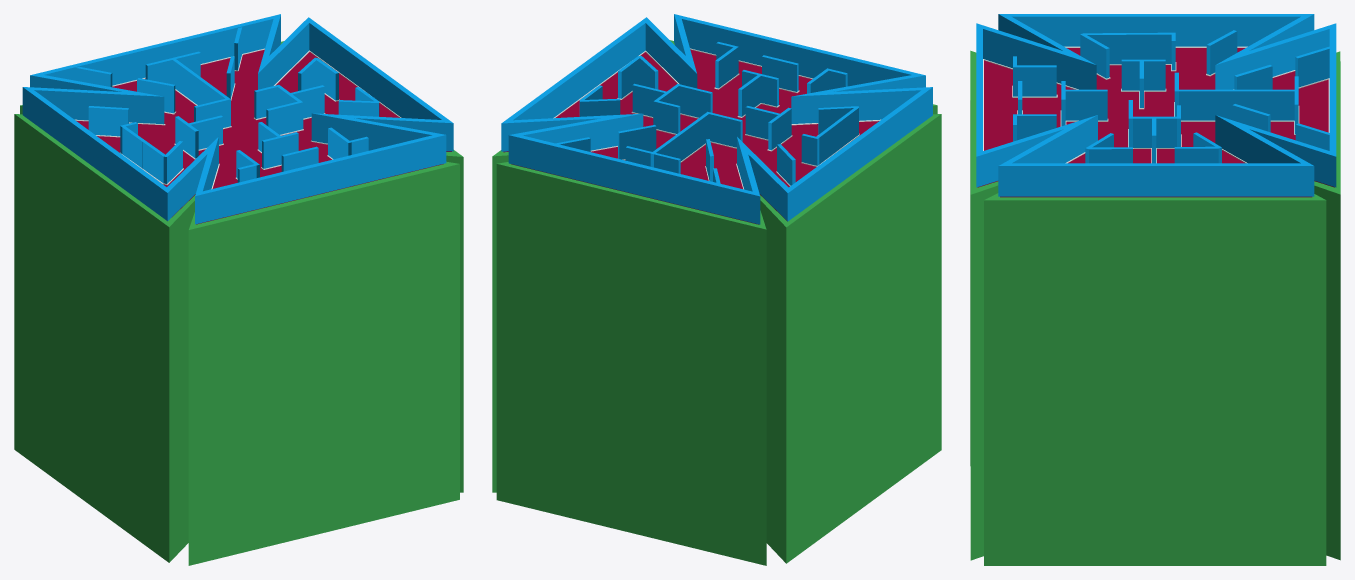
Rendered from Level_27.FBX.
The picture shows the model from 3 angles, left to right: view 1: azimuth 30°, elevation 25°; view 2: azimuth 150°, elevation 25°; view 3: azimuth 270°, elevation 25°; orthographic projection. The views are drawn at different scales.
Visible parts, largest first — view 1: Level_27; view 2: Level_27; view 3: Level_27.
Part boxes in pixels (x1,y1,x2,y2): Level_27: (14,14,463,565); Level_27: (492,14,941,565); Level_27: (970,14,1340,565).
Size of the model in its own units: 285 by 340 by 287.
